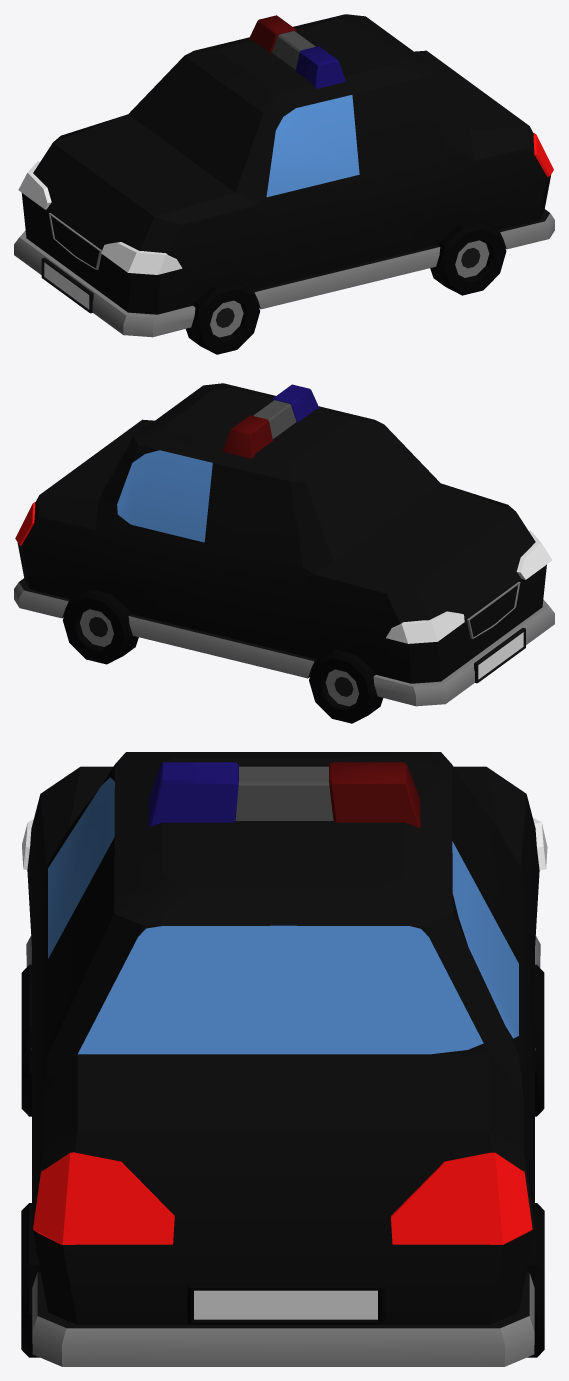
File: CochePolicia.FBX
3 views of the same model, one above another, from view 1: azimuth 30°, elevation 25°; view 2: azimuth 150°, elevation 25°; view 3: azimuth 270°, elevation 25° (orthographic). The views are drawn at different scales.
Visible parts, largest first — view 1: Vehiculo008, Cylinder009, Box014, Foco010, RadiadorCoche005, MatriculaDelantera005; view 2: Vehiculo008, Cylinder009, Box014, Foco010, RadiadorCoche005, MatriculaDelantera005; view 3: Vehiculo008, FocoTrasero006, Box014, MatriculaTrasera005, Cylinder009, Foco010.
Boxes of the visible parts, bbox=[...] form: Vehiculo008: bbox=[14, 14, 554, 337]; Cylinder009: bbox=[186, 219, 506, 354]; Box014: bbox=[248, 15, 345, 88]; Foco010: bbox=[18, 161, 182, 274]; RadiadorCoche005: bbox=[48, 213, 101, 269]; MatriculaDelantera005: bbox=[41, 257, 93, 313]; Vehiculo008: bbox=[14, 383, 554, 706]; Cylinder009: bbox=[62, 589, 383, 723]; Box014: bbox=[222, 384, 319, 458]; Foco010: bbox=[386, 530, 552, 643]; RadiadorCoche005: bbox=[467, 581, 520, 638]; MatriculaDelantera005: bbox=[474, 628, 525, 683]; Vehiculo008: bbox=[26, 752, 540, 1366]; FocoTrasero006: bbox=[33, 1152, 532, 1244]; Box014: bbox=[148, 762, 420, 827]; MatriculaTrasera005: bbox=[187, 1283, 384, 1324]; Cylinder009: bbox=[21, 964, 544, 1357]; Foco010: bbox=[22, 818, 547, 870].
Bounding box in the file's own units: 151 × 77.72 × 79.18.
